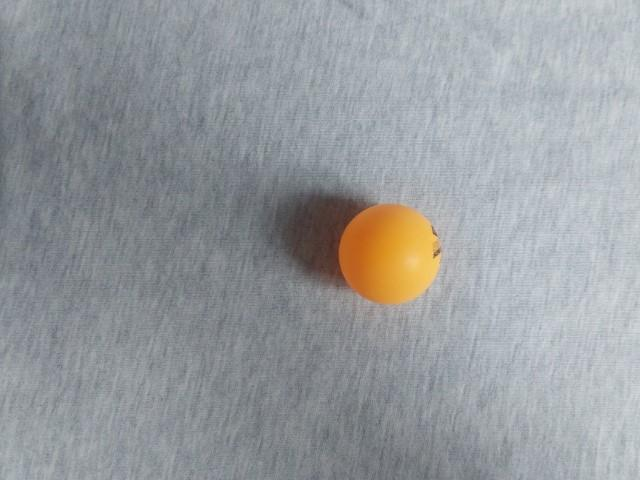oball: (191, 171, 307, 283)
